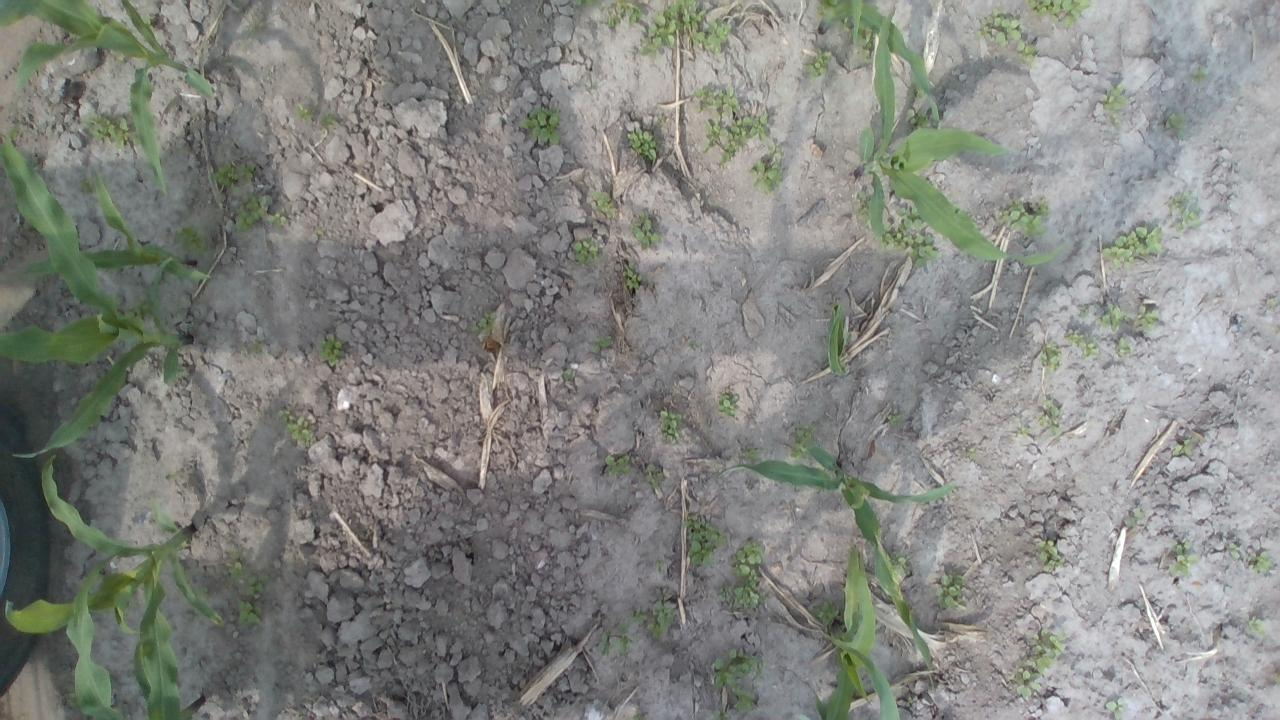Maize: (0, 131, 191, 462), (856, 2, 1073, 266), (716, 442, 954, 670), (5, 457, 223, 704), (0, 0, 213, 197), (67, 549, 205, 720), (20, 172, 214, 284), (820, 0, 946, 121), (824, 549, 876, 720), (812, 638, 904, 720), (826, 303, 850, 377)
Weeds: (636, 0, 702, 56), (1016, 628, 1064, 696), (1101, 226, 1163, 269), (682, 512, 728, 568), (879, 224, 937, 268), (720, 112, 769, 162), (711, 646, 766, 688), (998, 198, 1048, 237), (518, 104, 564, 146), (1030, 0, 1092, 31), (972, 8, 1021, 47), (717, 576, 768, 610), (752, 146, 786, 192), (82, 113, 130, 144), (233, 194, 270, 234), (1166, 190, 1201, 232), (692, 86, 742, 114), (212, 160, 256, 190), (694, 21, 732, 55), (628, 212, 661, 247), (789, 422, 818, 461), (278, 408, 312, 441), (174, 223, 208, 256), (646, 601, 674, 640), (1168, 542, 1200, 576), (606, 0, 642, 29), (626, 126, 656, 160), (1100, 85, 1126, 124), (734, 543, 763, 577), (936, 574, 964, 608), (1038, 398, 1062, 436), (896, 204, 926, 232), (1064, 332, 1096, 358), (805, 49, 831, 80), (590, 190, 618, 218), (1038, 540, 1065, 569), (658, 409, 681, 443), (469, 308, 499, 334), (572, 238, 600, 265), (316, 338, 342, 366), (905, 108, 938, 130), (812, 600, 839, 626), (1041, 343, 1063, 374), (1134, 304, 1160, 330), (236, 600, 262, 626), (1102, 301, 1124, 331), (604, 453, 630, 478), (703, 116, 721, 152), (613, 623, 633, 655), (244, 574, 270, 598), (1015, 39, 1038, 65), (622, 262, 643, 290), (732, 684, 752, 712), (1249, 550, 1272, 574), (128, 294, 150, 318), (225, 558, 246, 583), (1105, 697, 1126, 720), (716, 393, 736, 416), (855, 192, 871, 217), (1172, 438, 1192, 458), (294, 101, 315, 120), (1246, 618, 1268, 636), (591, 334, 613, 352), (892, 552, 908, 576), (78, 175, 98, 194), (1165, 112, 1184, 131), (860, 30, 876, 52), (1125, 509, 1143, 528), (644, 463, 659, 484), (598, 631, 610, 656), (1076, 303, 1092, 321), (266, 210, 282, 228), (1265, 298, 1280, 314), (320, 114, 338, 126), (1118, 336, 1130, 354), (193, 586, 207, 601), (745, 447, 759, 462), (1229, 543, 1240, 560), (711, 710, 729, 720), (572, 0, 596, 7), (630, 608, 642, 622), (1192, 68, 1206, 80), (840, 16, 851, 31), (964, 447, 976, 460), (885, 414, 903, 422), (654, 560, 664, 574), (562, 368, 572, 380), (140, 14, 150, 24), (181, 536, 191, 544)
